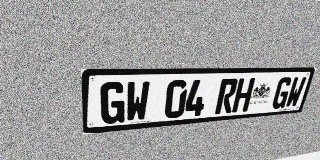0: (164, 80, 188, 119)
4: (184, 79, 208, 117)
G: (100, 81, 126, 125), (270, 77, 293, 109)
H: (231, 78, 255, 113)
R: (214, 78, 239, 114)
W: (125, 81, 150, 122), (284, 77, 307, 108)
